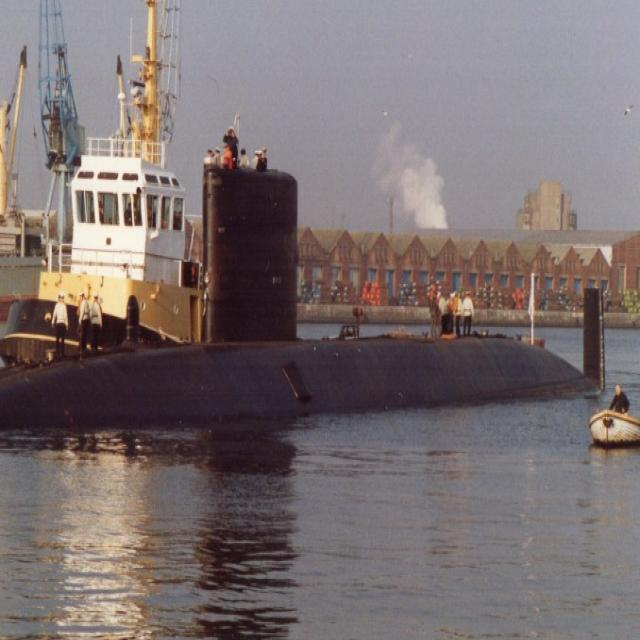submarine: (1, 172, 609, 435)
